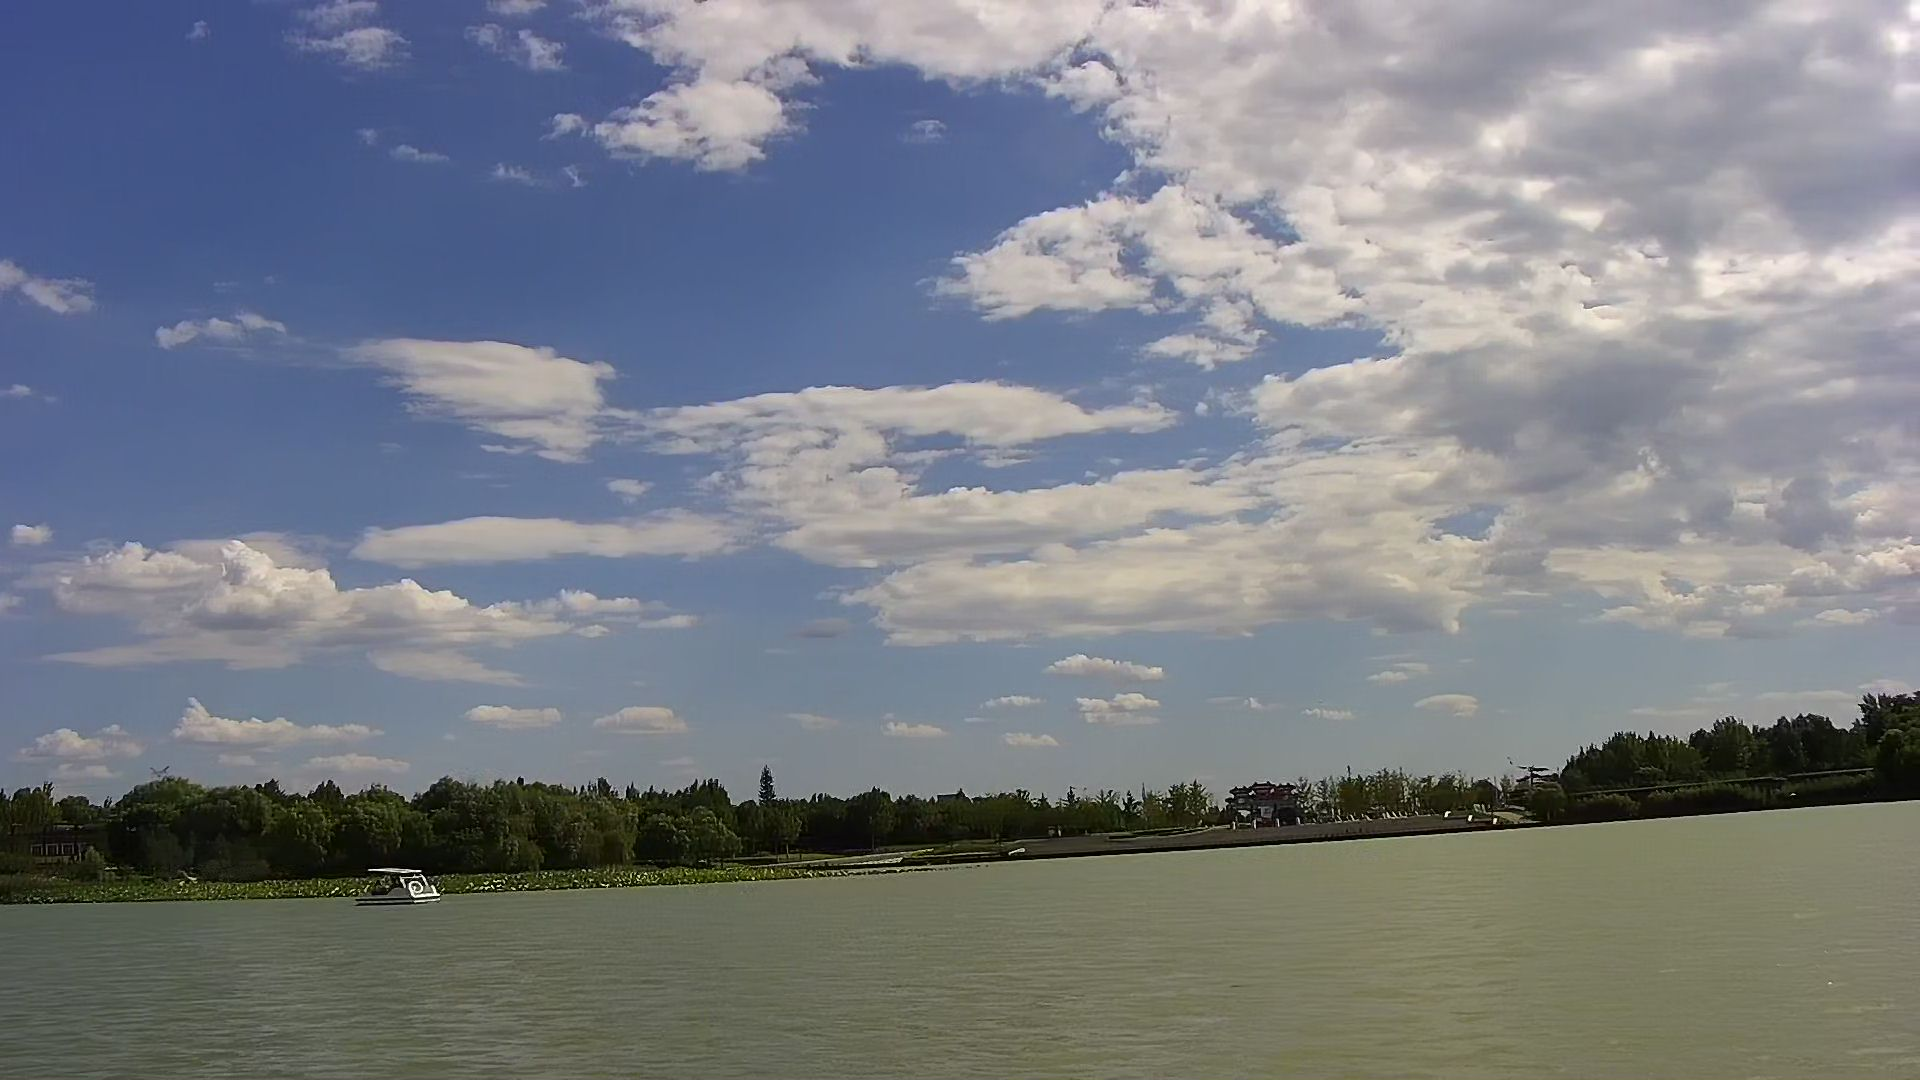boat: (357, 860, 440, 911)
